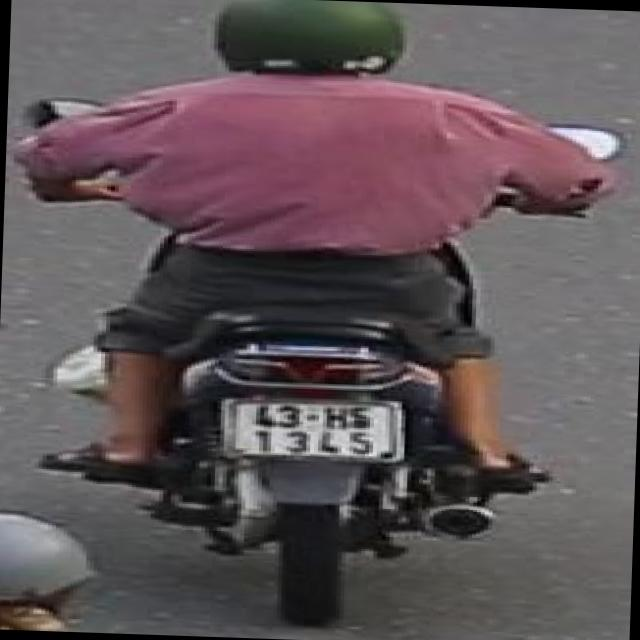LP: (210, 387, 412, 464)
helmet: (172, 0, 423, 96)
